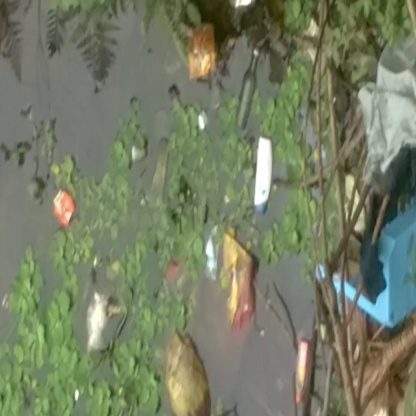bottle: (235, 44, 264, 126), (251, 135, 278, 211)
branch: (308, 98, 359, 390)
